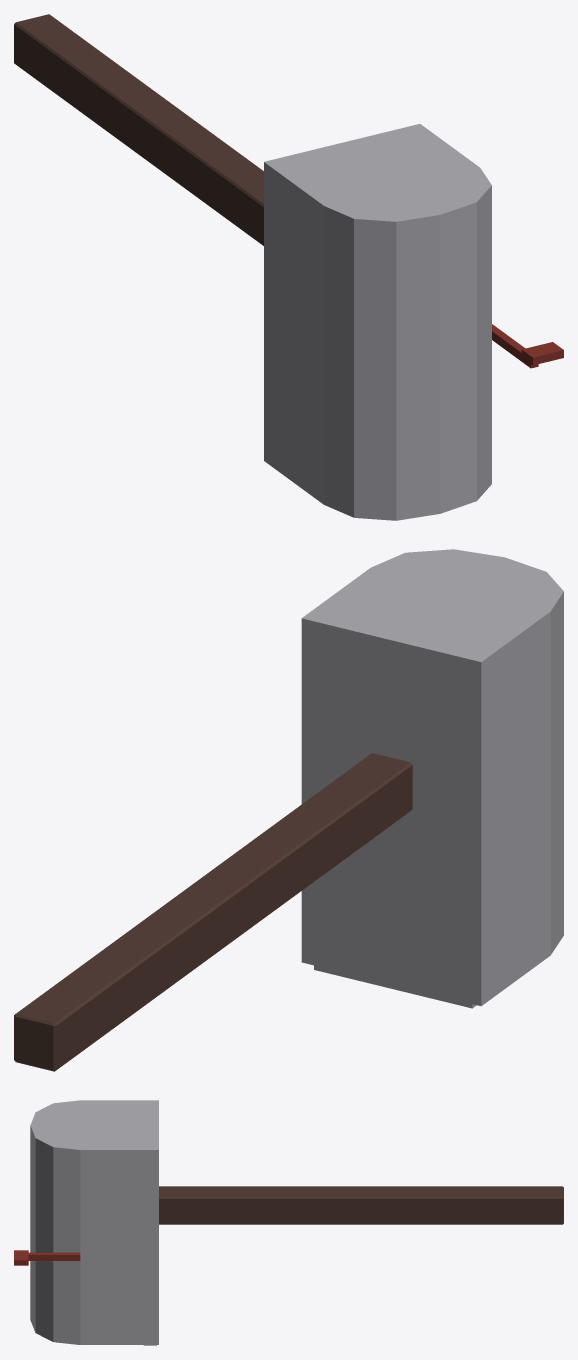
File: pz_mailbox_residential.obj
3 views of the same model, one above another, from view 1: azimuth 30°, elevation 25°; view 2: azimuth 150°, elevation 25°; view 3: azimuth 270°, elevation 25° (orthographic). The views are drawn at different scales.
Parts seen in each view (by area): view 1: pz_mailbox_residential_|_rounded_residential_mailbox_body, pz_mailbox_residential_|_wood_support_post, pz_mailbox_residential_|_red_flag, pz_mailbox_residential_|_red_signal_flag_staff; view 2: pz_mailbox_residential_|_rounded_residential_mailbox_body, pz_mailbox_residential_|_wood_support_post, pz_mailbox_residential_|_front_door_lower_seam; view 3: pz_mailbox_residential_|_rounded_residential_mailbox_body, pz_mailbox_residential_|_wood_support_post, pz_mailbox_residential_|_red_signal_flag_staff.
Boxes of the visible parts, bbox=[...] form: pz_mailbox_residential_|_rounded_residential_mailbox_body: bbox=[264, 124, 491, 520]; pz_mailbox_residential_|_wood_support_post: bbox=[14, 14, 263, 245]; pz_mailbox_residential_|_red_flag: bbox=[521, 342, 563, 365]; pz_mailbox_residential_|_red_signal_flag_staff: bbox=[492, 324, 538, 368]; pz_mailbox_residential_|_rounded_residential_mailbox_body: bbox=[301, 549, 563, 1006]; pz_mailbox_residential_|_wood_support_post: bbox=[14, 753, 412, 1071]; pz_mailbox_residential_|_front_door_lower_seam: bbox=[314, 965, 476, 1008]; pz_mailbox_residential_|_rounded_residential_mailbox_body: bbox=[30, 1100, 158, 1344]; pz_mailbox_residential_|_wood_support_post: bbox=[159, 1186, 563, 1224]; pz_mailbox_residential_|_red_signal_flag_staff: bbox=[28, 1252, 80, 1260].
Size of the model in its own units: 0.225 by 0.365 by 0.869.
3 materials, 3 textured.
